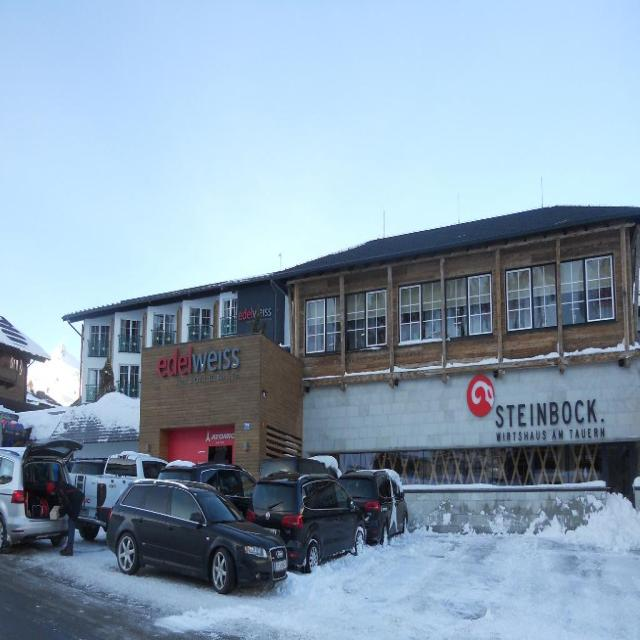car: (88, 468, 282, 599)
